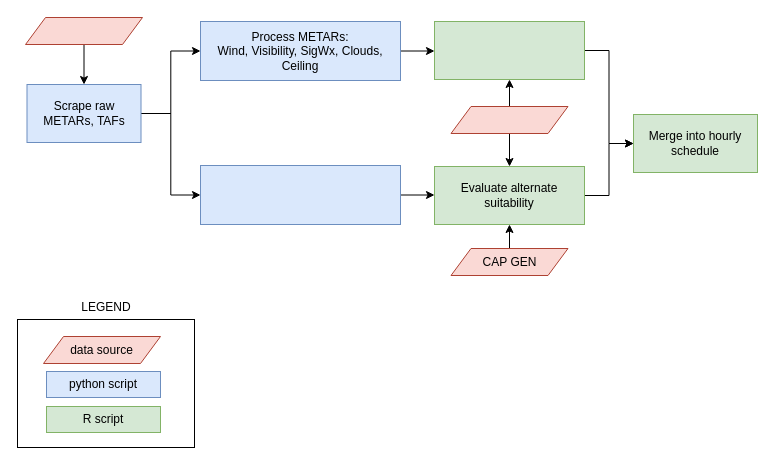
This 775x465 diagram has some shape labels left out. The centre of each missing label's shape, as x and y in pixels:
"Approach Plates" goes at (x=509, y=120).
"Compare with landing minima" goes at (x=509, y=50).
"ogimet.com" goes at (x=83, y=30).
"Process TAFs: As METARs, plus transition logic (e.g. FM, BECMG, TEMPO, PROB)" goes at (x=300, y=194).
